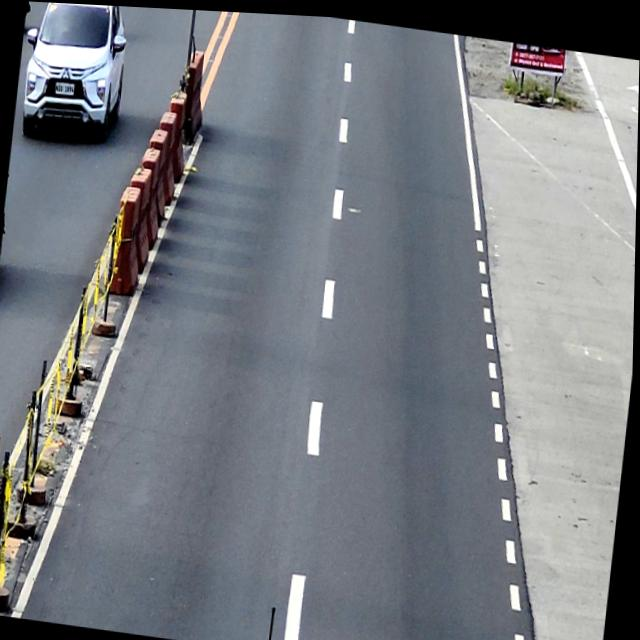Car: (15, 1, 133, 142)
License-Plate: (54, 80, 76, 96)
